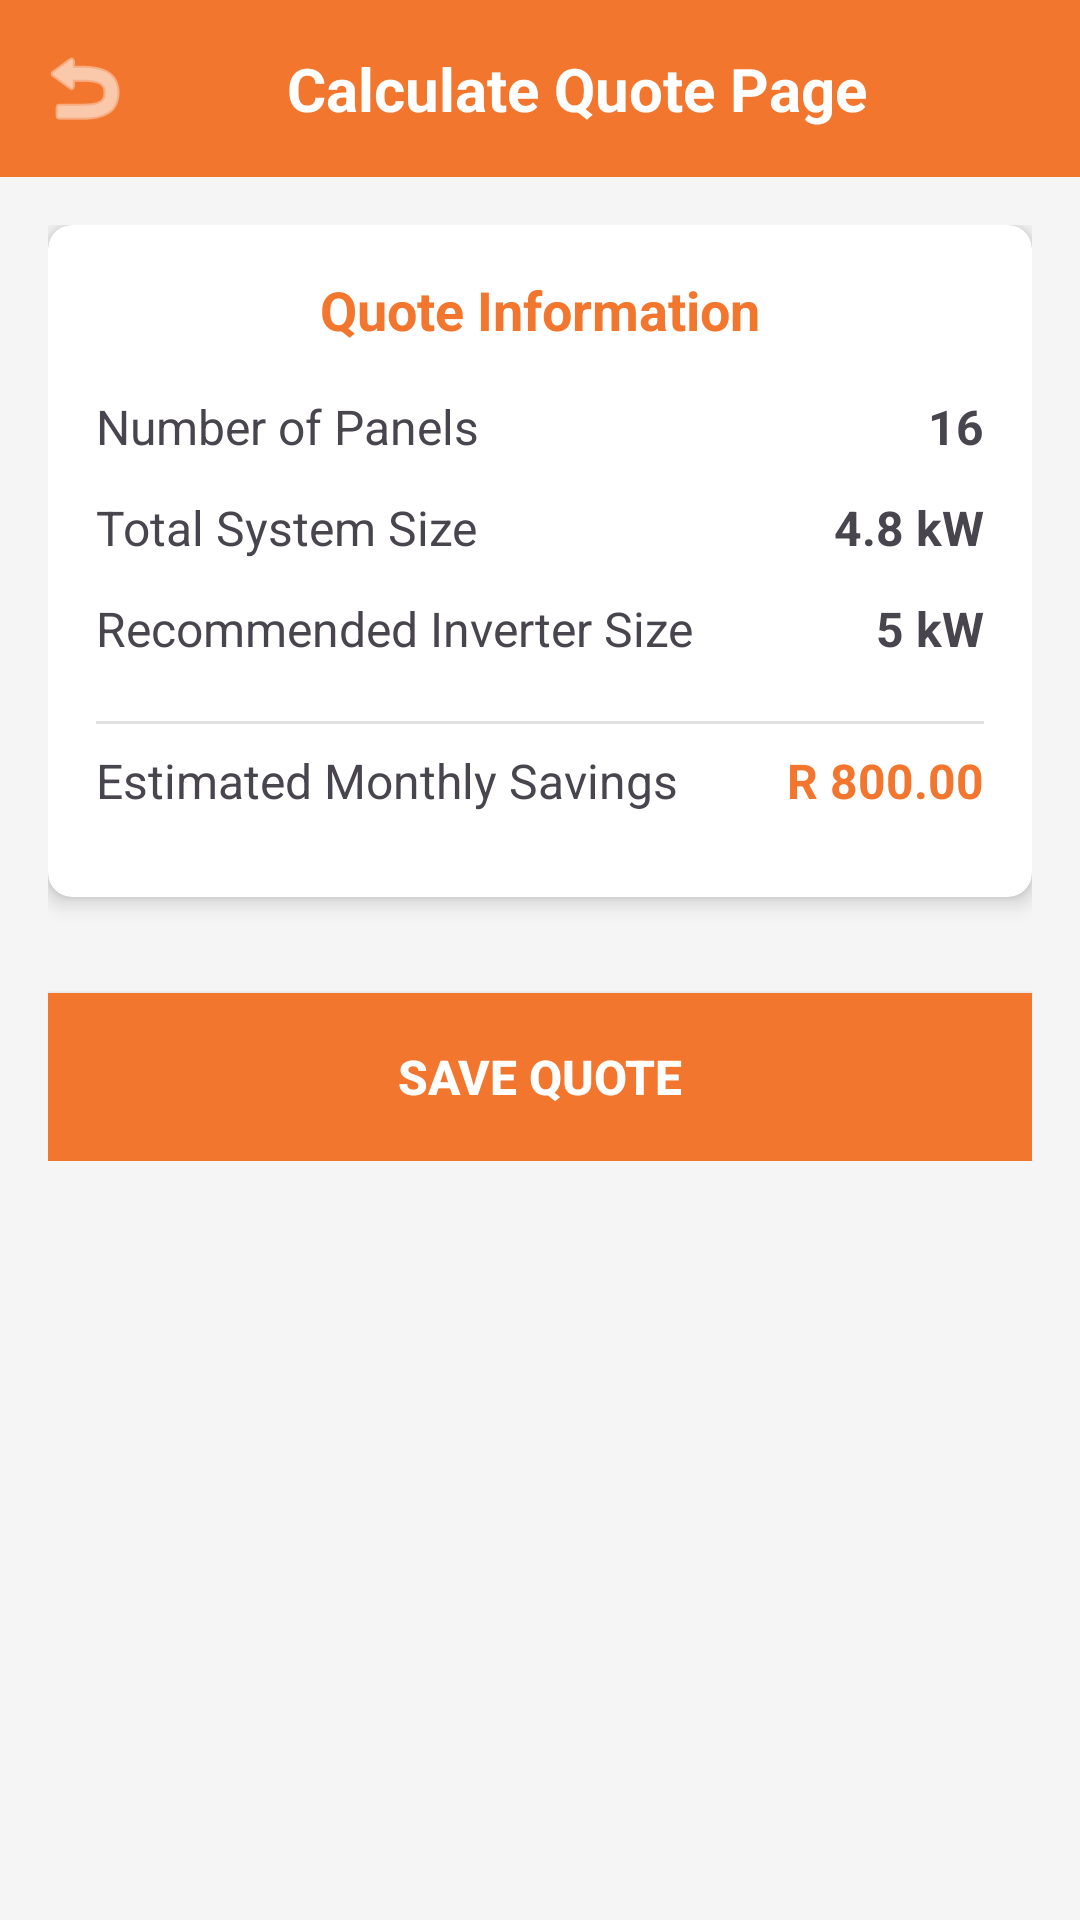

Named icons in this screenshot (1080*1920) and their bounding boxes, detection(x1, y1, x2, y2):
revert: detection(51, 57, 120, 120)
